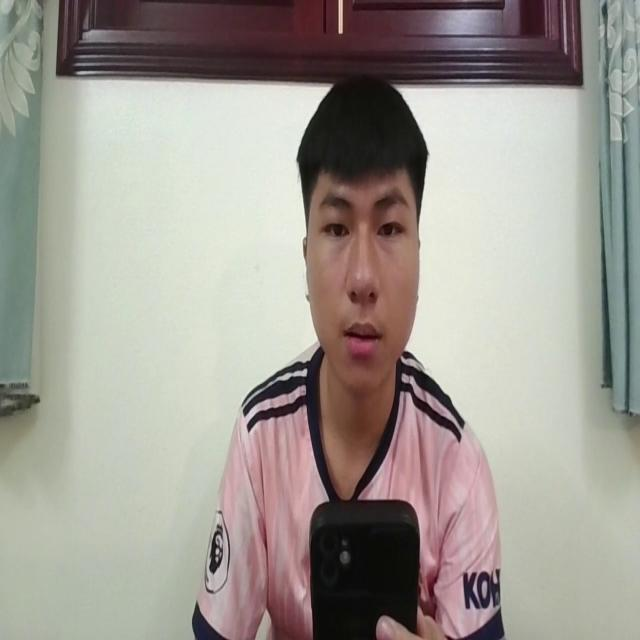phone: (306, 494, 422, 640)
student: (188, 66, 502, 640)
